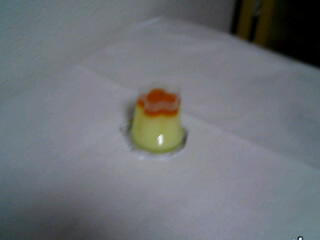001_classes: (123, 79, 198, 162)
